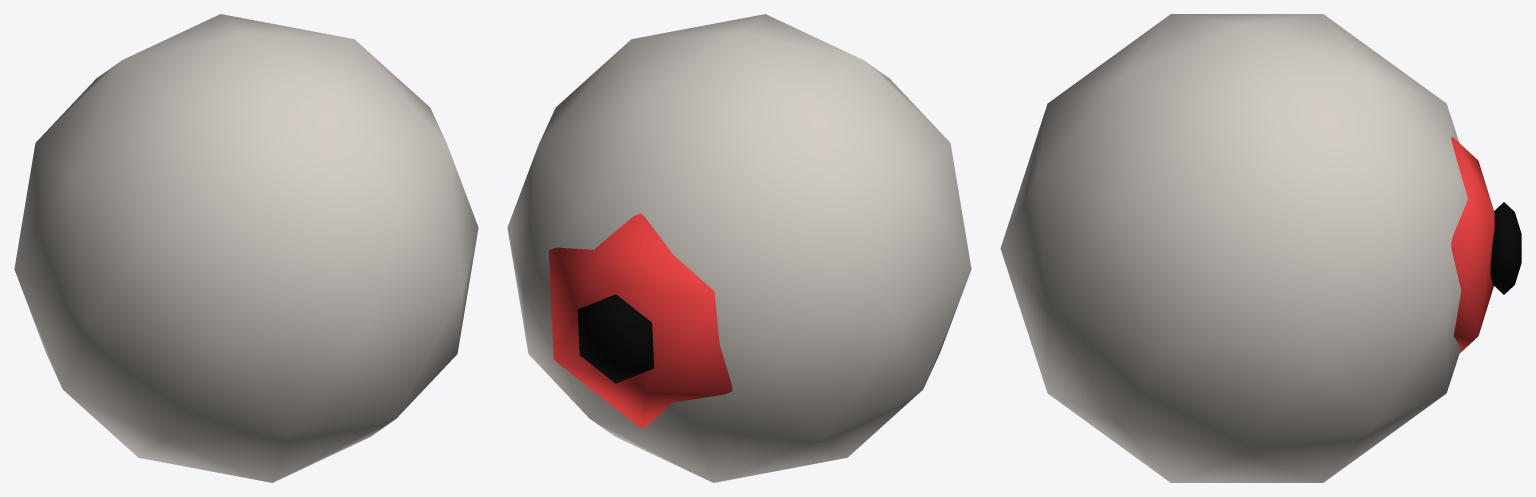
Rendered from glaring_lens.glb.
3 views of the same model, side by side, from view 1: azimuth 30°, elevation 25°; view 2: azimuth 150°, elevation 25°; view 3: azimuth 270°, elevation 25° (orthographic). The views are drawn at different scales.
Parts seen in each view (by area): view 1: glaring_lens_v0; view 2: glaring_lens_v0; view 3: glaring_lens_v0.
Part boxes in pixels (left/top/right/bottom): glaring_lens_v0: left=14, top=14, right=478, bottom=482; glaring_lens_v0: left=507, top=14, right=971, bottom=482; glaring_lens_v0: left=1000, top=14, right=1521, bottom=482.
Size of the model in its own units: 0.2283 by 0.24 by 0.2535.
